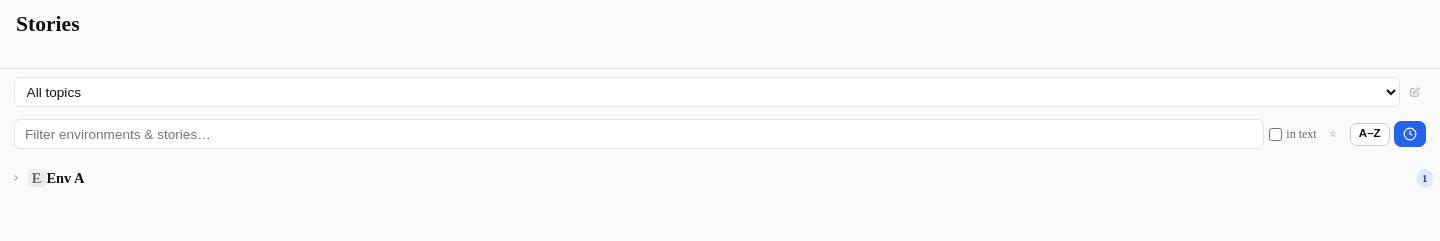
Test: SideBarComponent › inline chat-title editing › cancels editing with Escape without saving
Click the button with class "expand-btn". click: (16, 178)
box: [5, 167, 27, 189]
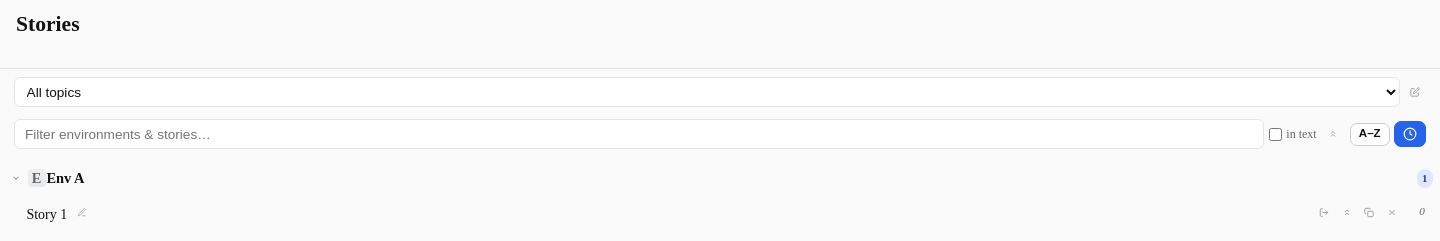
Click the button named "Rename story". click: (82, 212)
box: [71, 201, 93, 223]
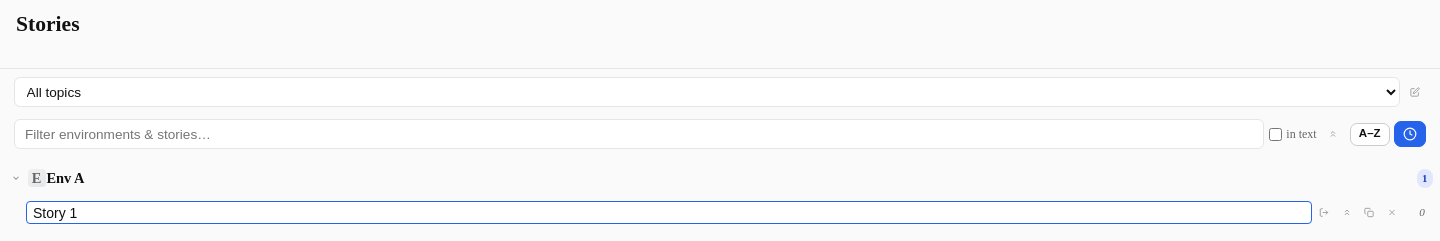
Replace the text in the field with class "chat-title-input" with "Should not stick". click: (669, 213)
box: [26, 201, 1312, 224]
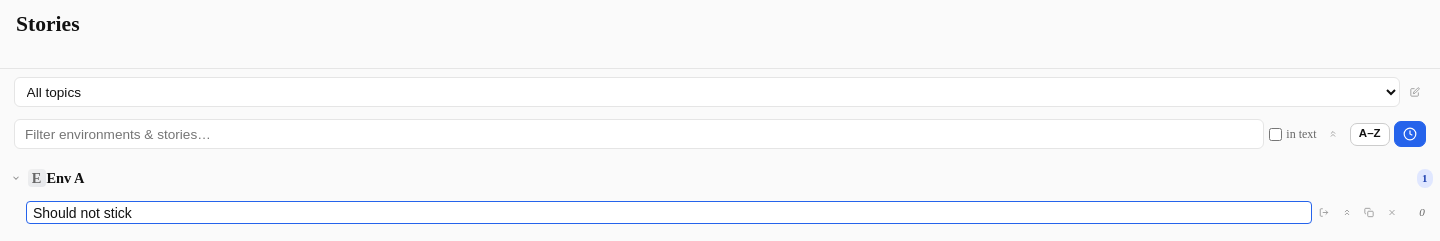
Press Escape in the field with class "chat-title-input", box [26, 201, 1312, 224]
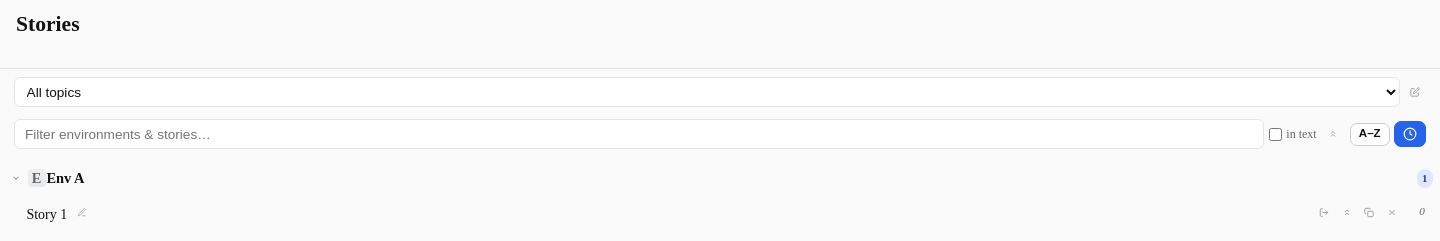
Now the element showing "Story 1" is shown, box [26, 201, 93, 223]
